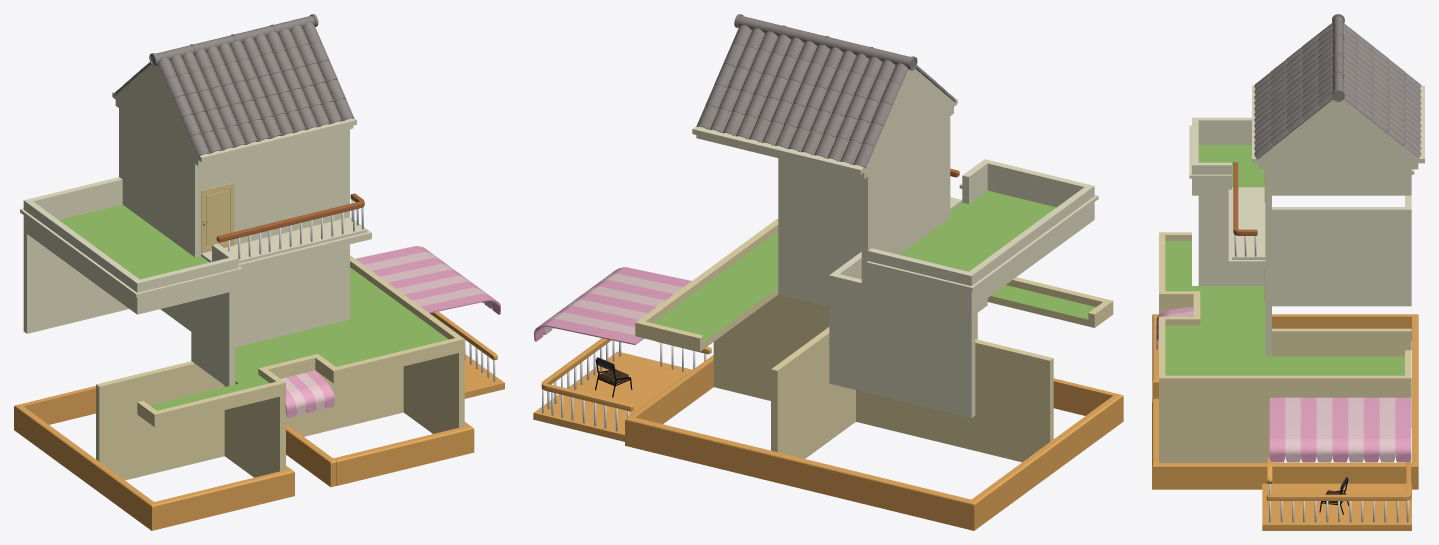
Rendered from hidden.glb.
3 renders of one model, left to right at view 1: azimuth 30°, elevation 25°; view 2: azimuth 150°, elevation 25°; view 3: azimuth 270°, elevation 25°, orthographic. The views are drawn at different scales.
Parts seen in each view (by area): view 1: 墙体f1, Cube.008, 墙体f2, 墙体f3, 屋顶右.001, Cube.007, 平面, 房顶, 伞, 主卧门.002, 平面.008, 屋顶脊梁 (+4 smaller); view 2: 墙体f1, 墙体f2, 平面, 屋顶右.002, Cube.008, Cube.007, 墙体f3, 房顶, 伞, 立方体.007, 屋顶脊梁, langan.003 (+1 smaller); view 3: 墙体f2, Cube.007, 墙体f1, 平面, 伞, Cube.008, 房顶, 屋顶右.001, 屋顶右.002, 立方体.007, 墙体f3, langan top.001 (+4 smaller).
Part boxes in pixels (x1,y1,x2,y2): 墙体f1: [96, 351, 464, 480]; Cube.008: [20, 177, 371, 314]; 墙体f2: [23, 232, 349, 386]; 墙体f3: [119, 108, 349, 257]; 屋顶右.001: [158, 22, 354, 156]; Cube.007: [137, 255, 464, 427]; 平面: [14, 386, 474, 530]; 房顶: [112, 35, 356, 166]; 伞: [355, 246, 500, 314]; 主卧门.002: [201, 182, 234, 253]; 平面.008: [281, 370, 334, 417]; 屋顶脊梁: [149, 14, 318, 66]; 墙体f1: [713, 294, 1053, 462]; 墙体f2: [778, 186, 987, 418]; 平面: [625, 355, 1123, 530]; 屋顶右.002: [696, 25, 908, 168]; Cube.008: [861, 159, 1098, 309]; Cube.007: [635, 219, 1113, 351]; 墙体f3: [778, 116, 950, 283]; 房顶: [692, 27, 957, 178]; 伞: [534, 267, 691, 344]; 立方体.007: [533, 351, 692, 441]; 屋顶脊梁: [734, 14, 917, 70]; langan.003: [542, 340, 706, 431]; 墙体f2: [1198, 195, 1411, 356]; Cube.007: [1159, 232, 1411, 390]; 墙体f1: [1159, 306, 1411, 462]; 平面: [1152, 314, 1418, 489]; 伞: [1269, 397, 1411, 462]; Cube.008: [1189, 117, 1414, 267]; 房顶: [1252, 85, 1424, 169]; 屋顶右.001: [1254, 22, 1333, 159]; 屋顶右.002: [1343, 23, 1421, 158]; 立方体.007: [1262, 483, 1411, 530]; 墙体f3: [1265, 169, 1411, 265]; langan top.001: [1266, 457, 1411, 500].
Bounding box in the file's own units: 13.74 × 12.26 × 8.21.
